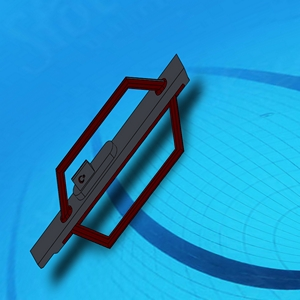submarine: (28, 53, 191, 284)
